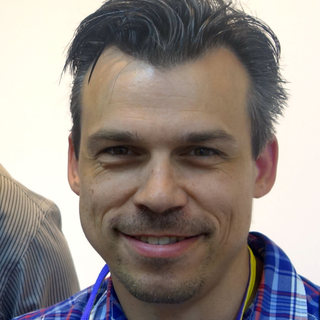eye: (90, 139, 144, 161), (175, 141, 226, 164)
